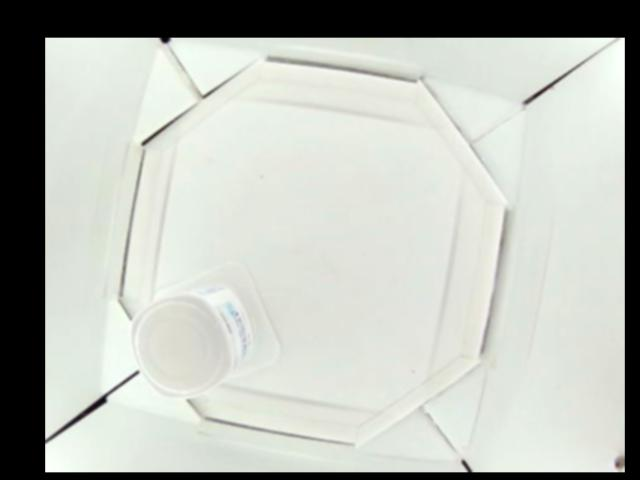Cup: (130, 258, 279, 397)
